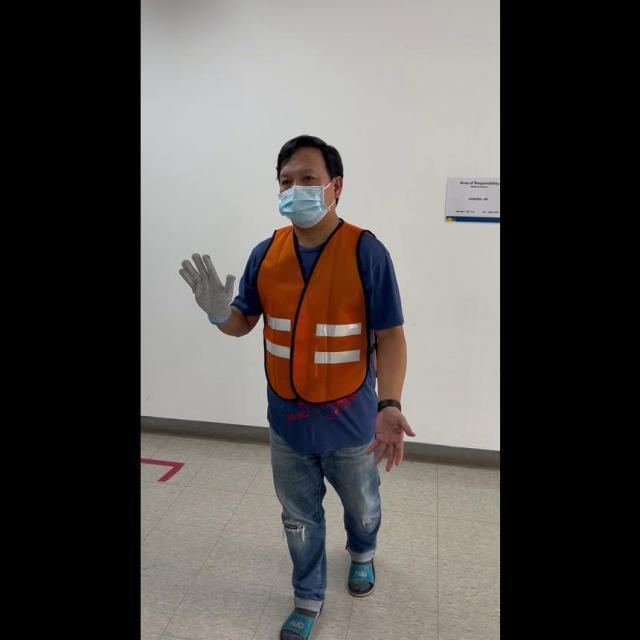bare_hand: (365, 402, 413, 470)
gloved_hand: (179, 245, 238, 325)
